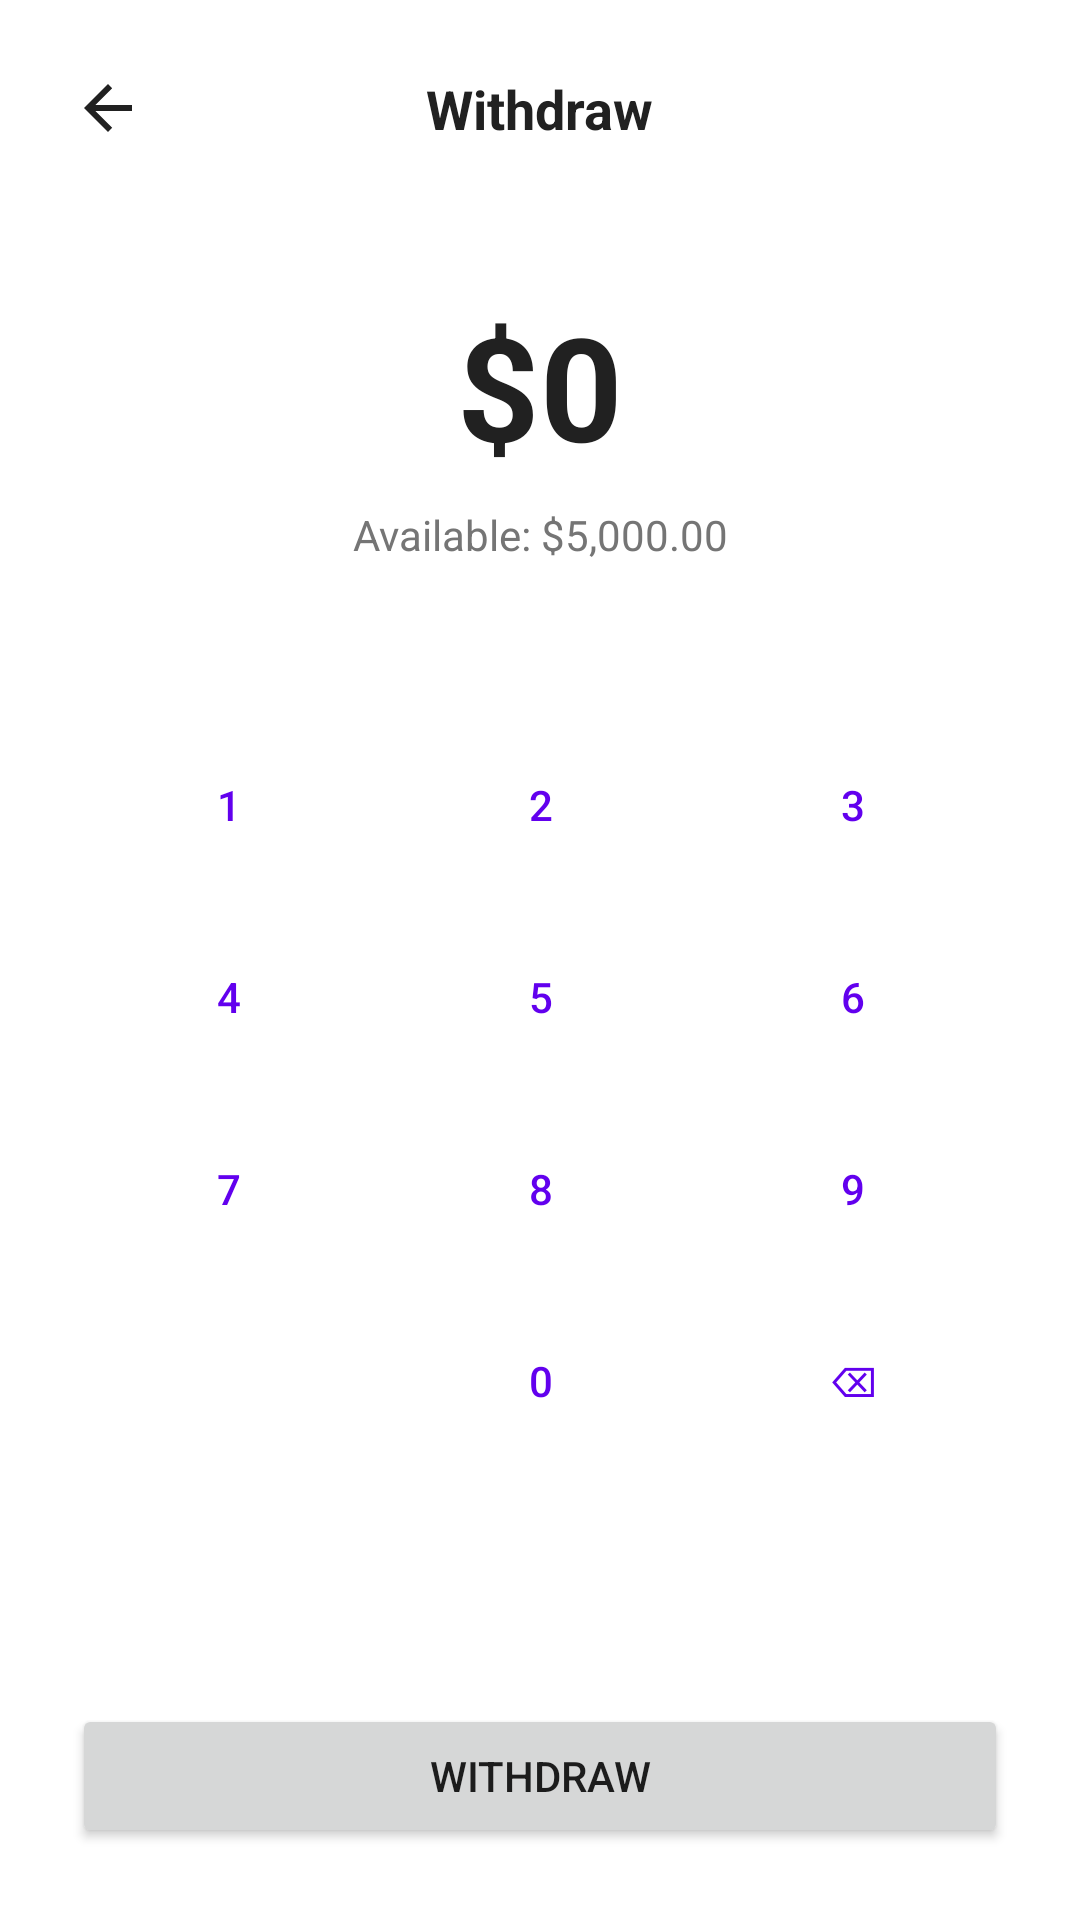

Icons on this 1080px x 1920px Android screen, each with its box as rect(x1, y1, x2, y2):
ab back: rect(84, 84, 132, 132)
